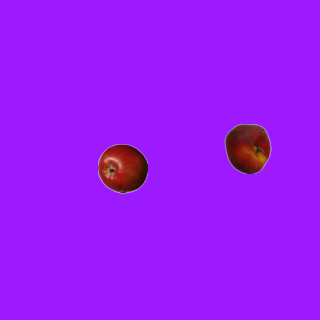Apple Braeburn: (97, 143, 147, 193)
Nectarine Flat: (222, 123, 272, 173)
